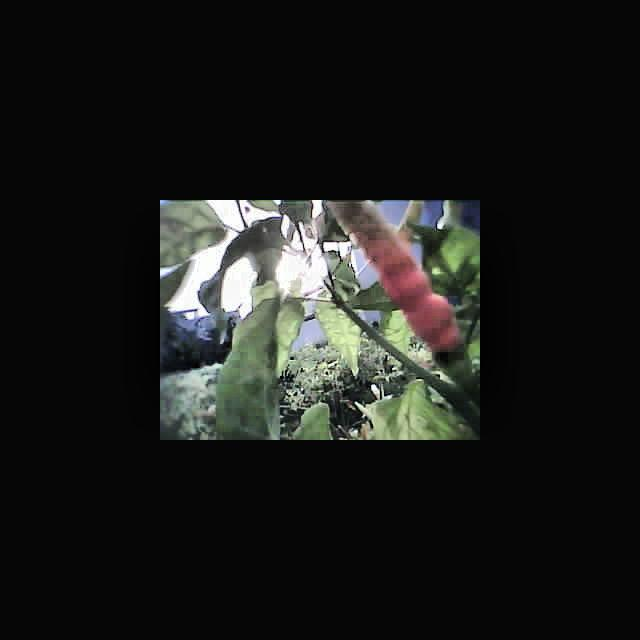Cabai: (329, 200, 478, 358)
